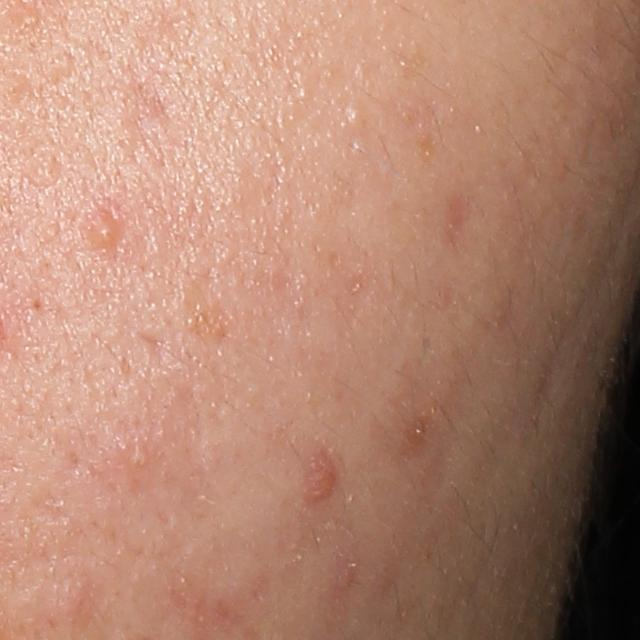atrophic_scar: (130, 321, 188, 368)
comedo: (341, 106, 366, 130)
papule: (302, 445, 346, 505), (89, 207, 121, 249)
